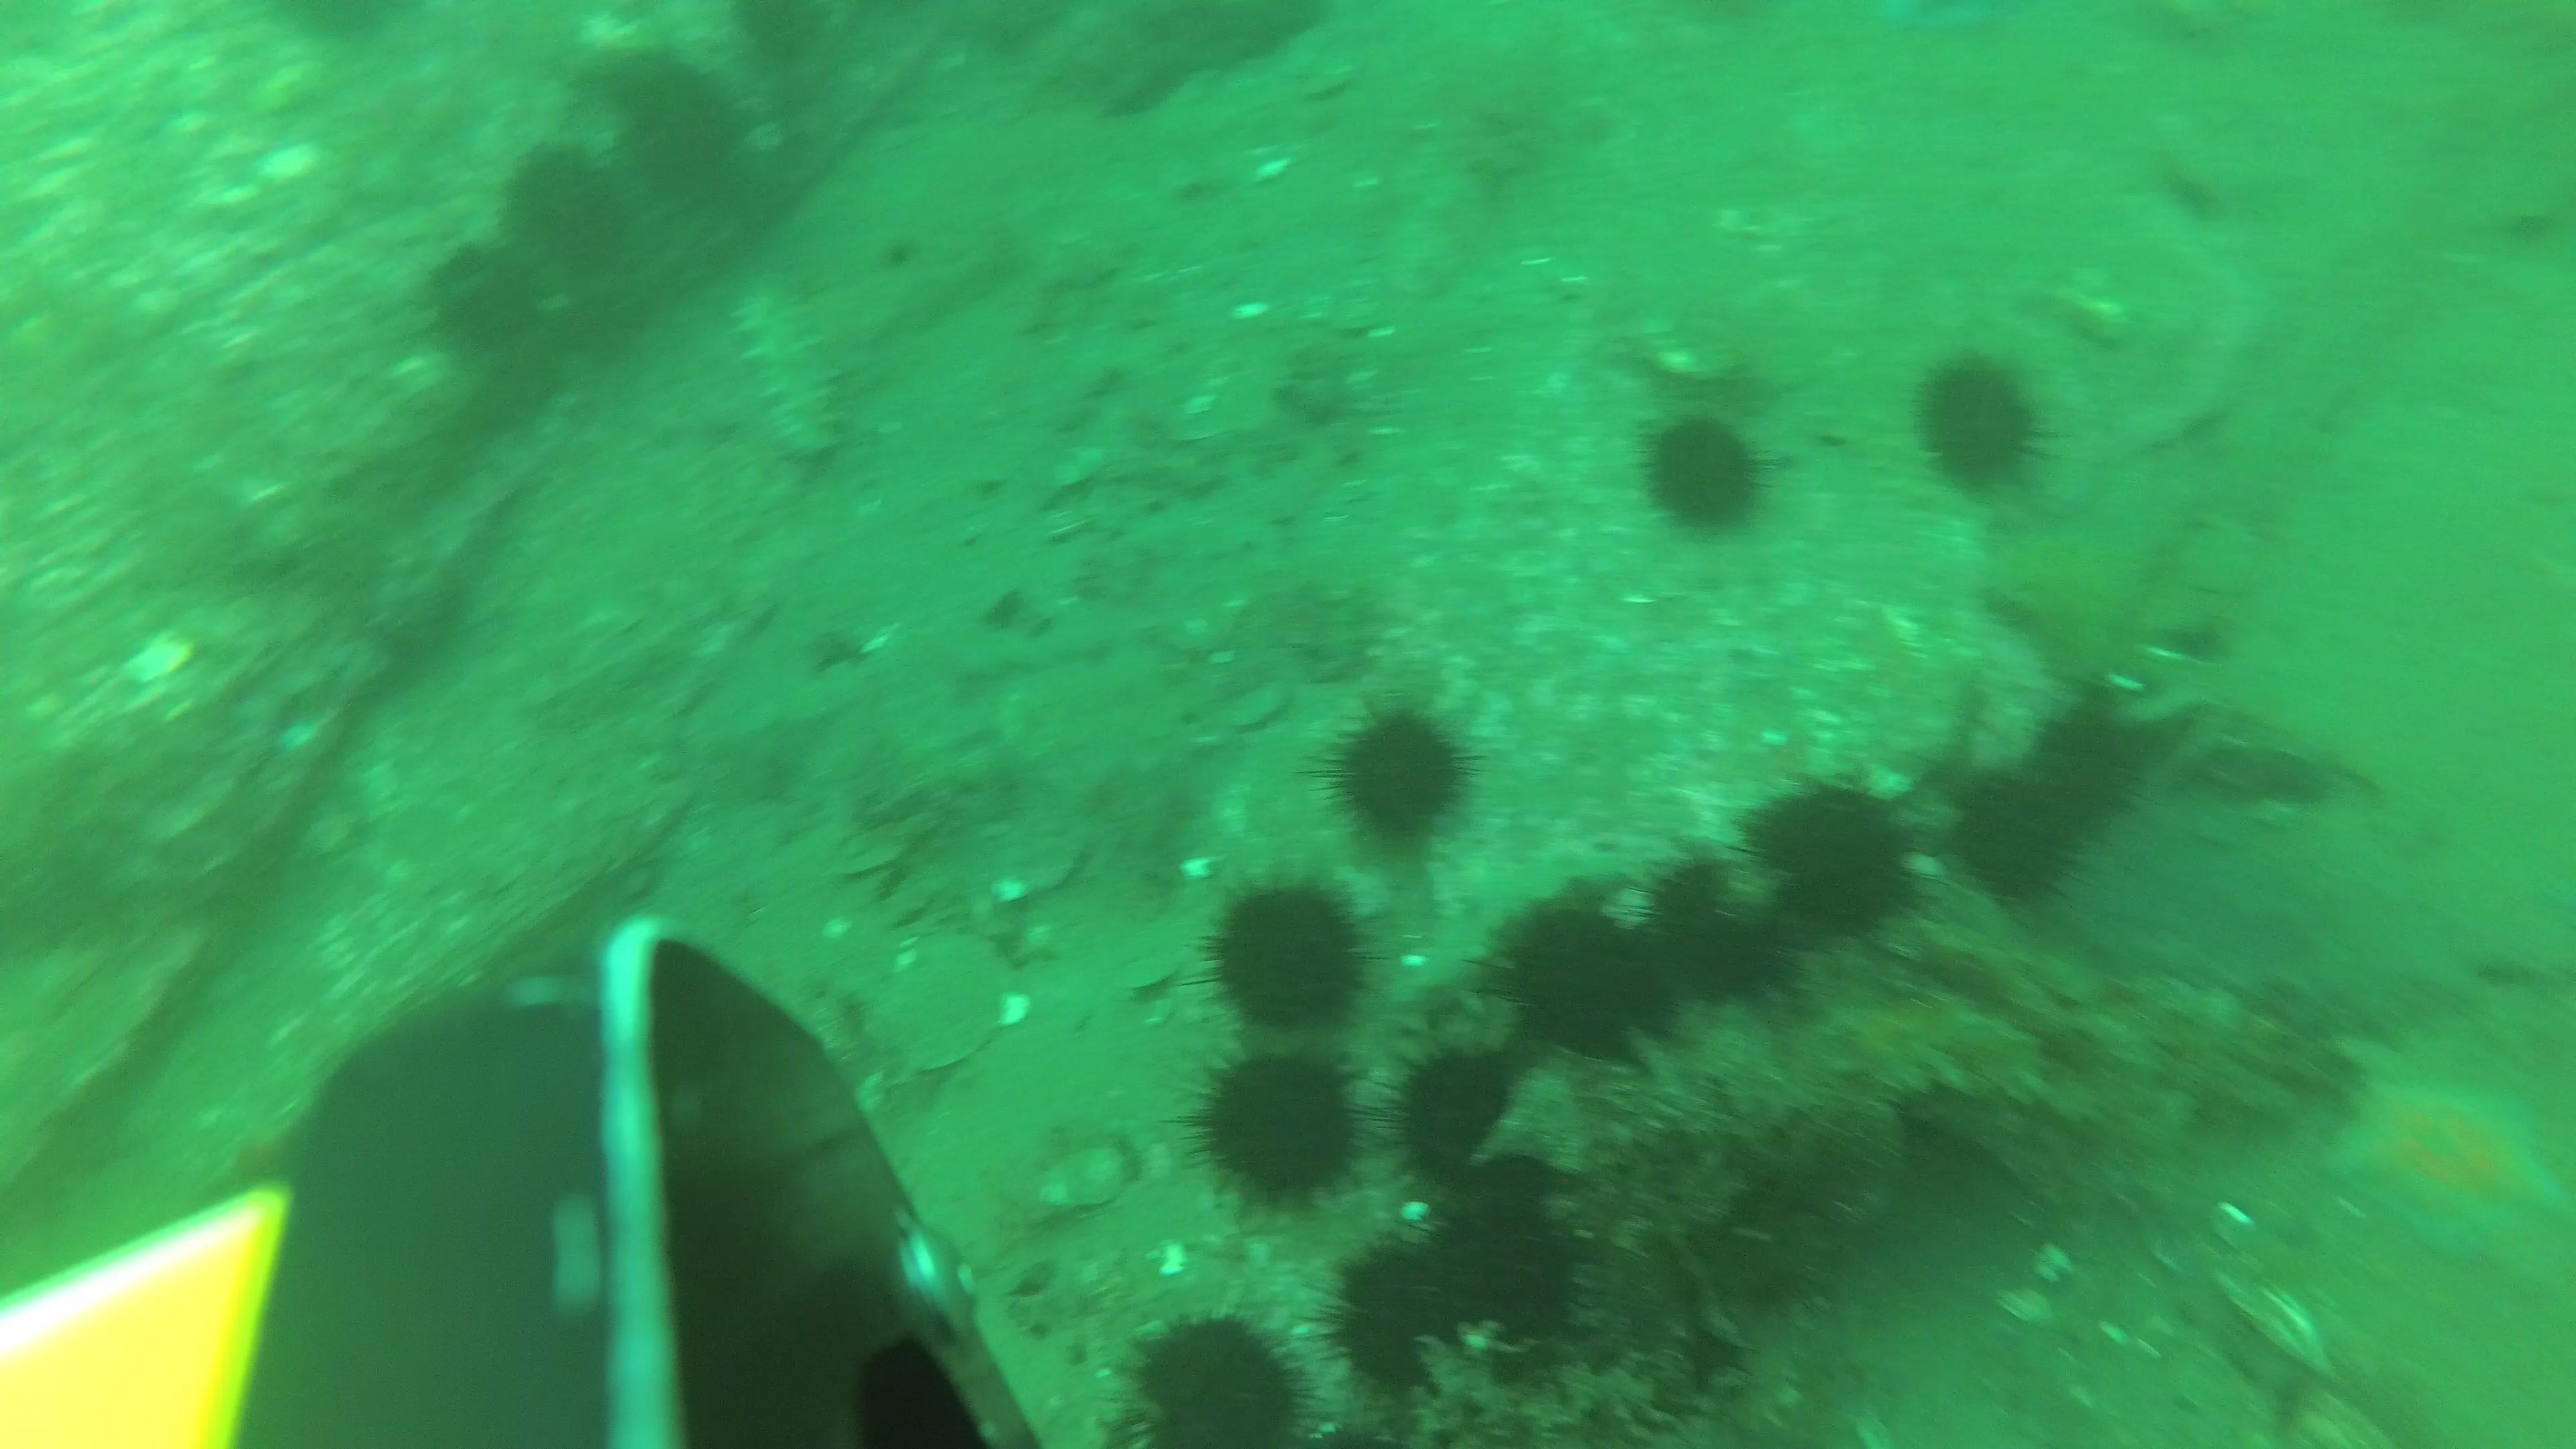echinus: (1177, 878, 1391, 1056), (1173, 1037, 1371, 1228), (1479, 893, 1672, 1077), (1732, 777, 1941, 947), (1102, 1304, 1332, 1449), (1366, 1037, 1550, 1214), (1426, 1194, 1599, 1364), (1313, 694, 1486, 855), (1327, 1230, 1477, 1405), (1645, 874, 1812, 1024), (1914, 347, 2059, 506), (1944, 771, 2084, 911), (1633, 407, 1780, 538), (619, 60, 752, 200), (2026, 697, 2151, 837), (504, 134, 625, 269), (428, 234, 543, 350), (722, 0, 835, 64)
holothurian: (1375, 830, 1693, 1039), (732, 274, 858, 464)
scallop: (883, 938, 1019, 1074), (1035, 1143, 1132, 1212)
starfish: (2330, 1062, 2576, 1263)
